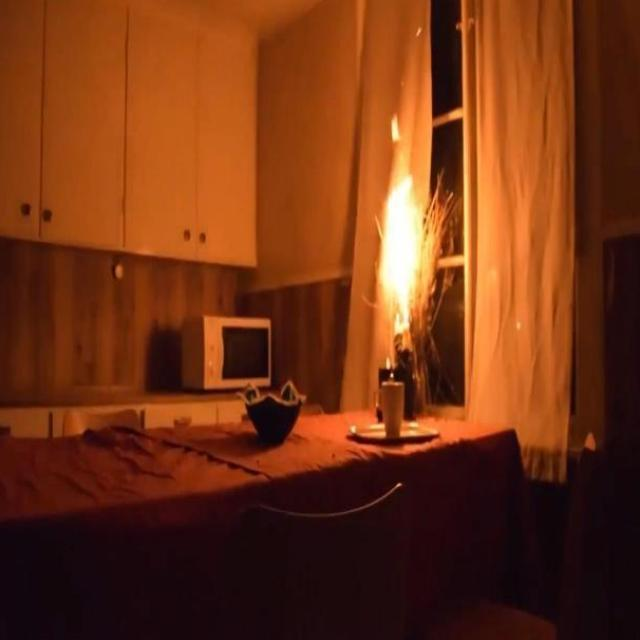smoke: (374, 165, 432, 336)
